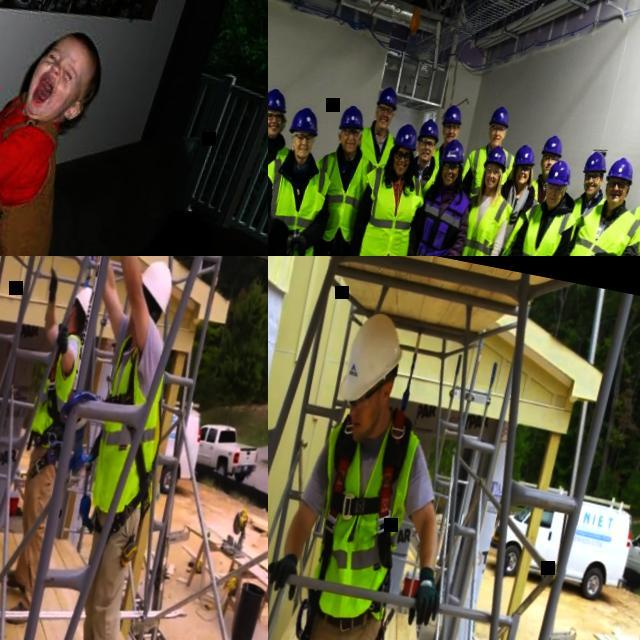helmet: (336, 308, 410, 412), (135, 258, 177, 314), (289, 104, 323, 138), (606, 154, 638, 186), (340, 104, 369, 133), (392, 122, 422, 150), (546, 158, 574, 188), (484, 144, 511, 173), (441, 138, 468, 166), (582, 149, 610, 176), (512, 142, 538, 169), (268, 86, 291, 116), (418, 116, 442, 144), (376, 84, 401, 110), (541, 133, 566, 159), (488, 105, 514, 128), (442, 103, 465, 127), (74, 284, 92, 314)
vest: (296, 402, 426, 622), (87, 331, 183, 520), (300, 142, 382, 249), (347, 161, 430, 256), (268, 146, 336, 256), (27, 329, 85, 447), (409, 182, 473, 256), (561, 198, 640, 256), (452, 189, 516, 256), (507, 199, 579, 256), (461, 141, 517, 202), (493, 191, 541, 256), (566, 190, 606, 244), (353, 126, 398, 171), (430, 143, 476, 184), (608, 199, 640, 256), (407, 152, 441, 195), (268, 138, 292, 192), (528, 179, 550, 204)
